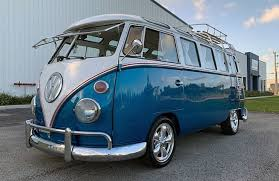bus: (23, 13, 248, 166)
